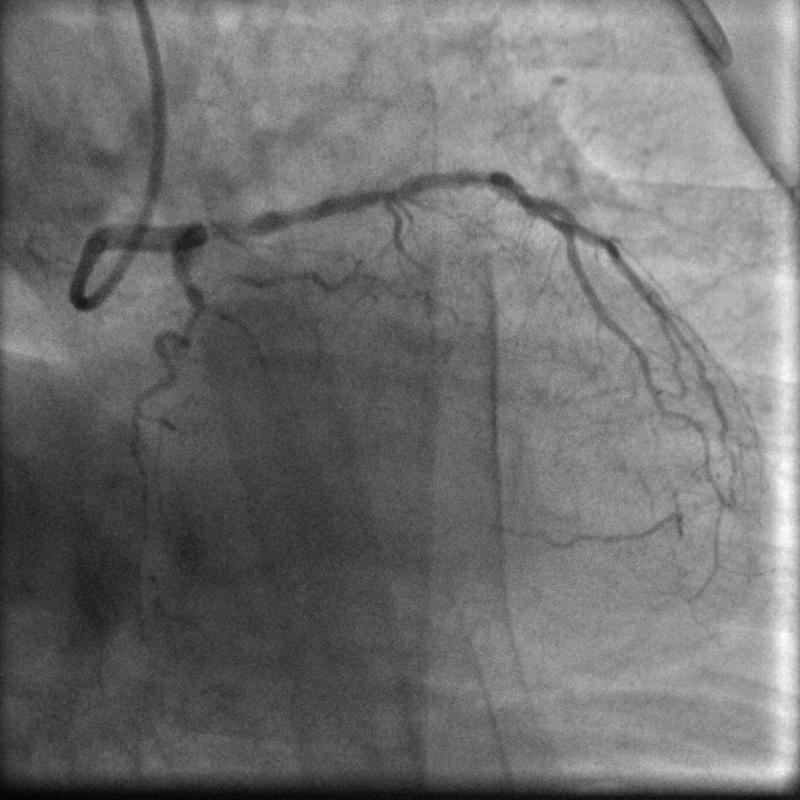Stenosis: (206, 205, 264, 244)
